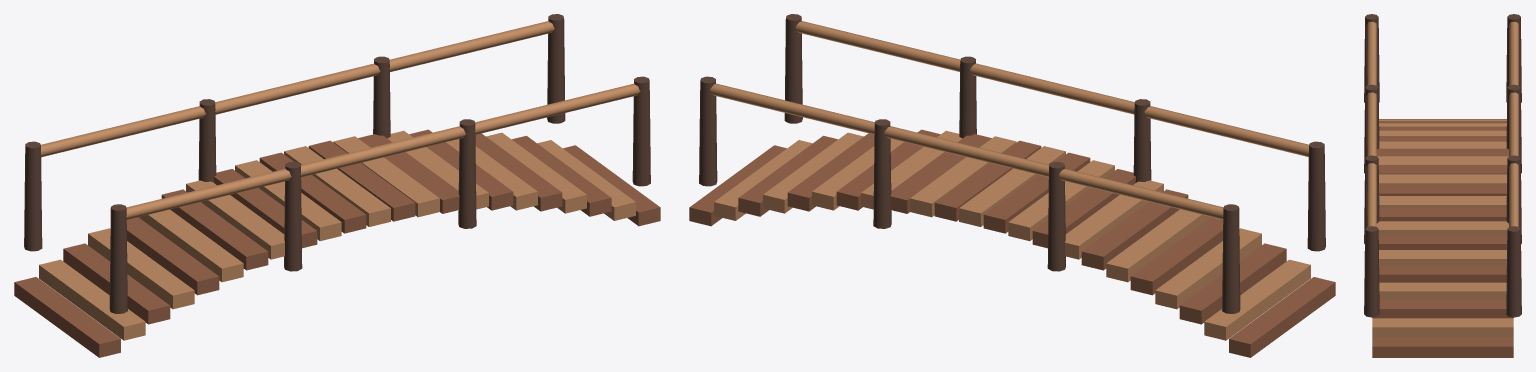
File: bridge.glb
3 renders of one model, left to right at view 1: azimuth 30°, elevation 25°; view 2: azimuth 150°, elevation 25°; view 3: azimuth 270°, elevation 25°, orthographic. The views are drawn at different scales.
Parts seen in each view (by area): view 1: surface_#be8960, surface_#936047, surface_#62473b; view 2: surface_#be8960, surface_#936047, surface_#62473b; view 3: surface_#be8960, surface_#936047, surface_#62473b.
Part boxes in pixels (x1,y1,x2,y2): surface_#be8960: (39,21,640,340); surface_#936047: (14,129,660,357); surface_#62473b: (24,14,650,313); surface_#be8960: (710,21,1310,340); surface_#936047: (689,129,1335,357); surface_#62473b: (699,14,1325,313); surface_#be8960: (1366,21,1518,337); surface_#936047: (1372,119,1513,357); surface_#62473b: (1364,14,1521,317).
Size of the model in its own units: 5.15 by 1.28 by 1.51.
